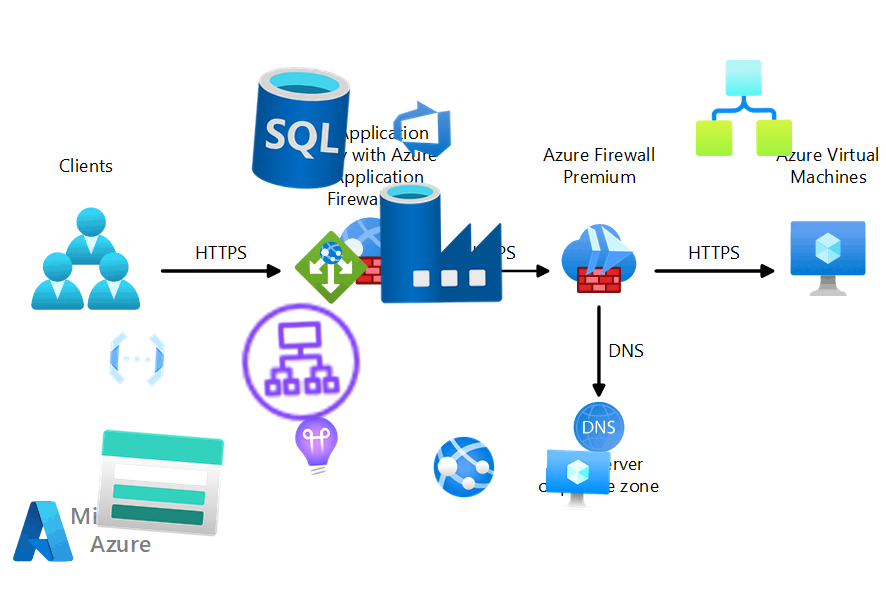aws_elastic_load_balancing_application_load_balancer: (234, 295, 368, 429)
azure_app_services: (430, 433, 498, 501)
azure_application_insights: (283, 413, 351, 481)
azure_data_factories: (376, 177, 506, 307)
azure_devops: (389, 96, 455, 162)
azure_logic_apps: (695, 59, 793, 157)
azure_sql_database: (232, 59, 370, 197)
azure_storage_accounts: (90, 413, 230, 553)
azure_virtual_machine: (544, 448, 612, 516)
gcp_cloud_functions: (103, 325, 171, 393)
gcp_cloud_run: (576, 218, 642, 284)
